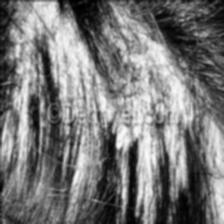Non-Cancerous Skin Condition: (120, 12, 182, 102)
